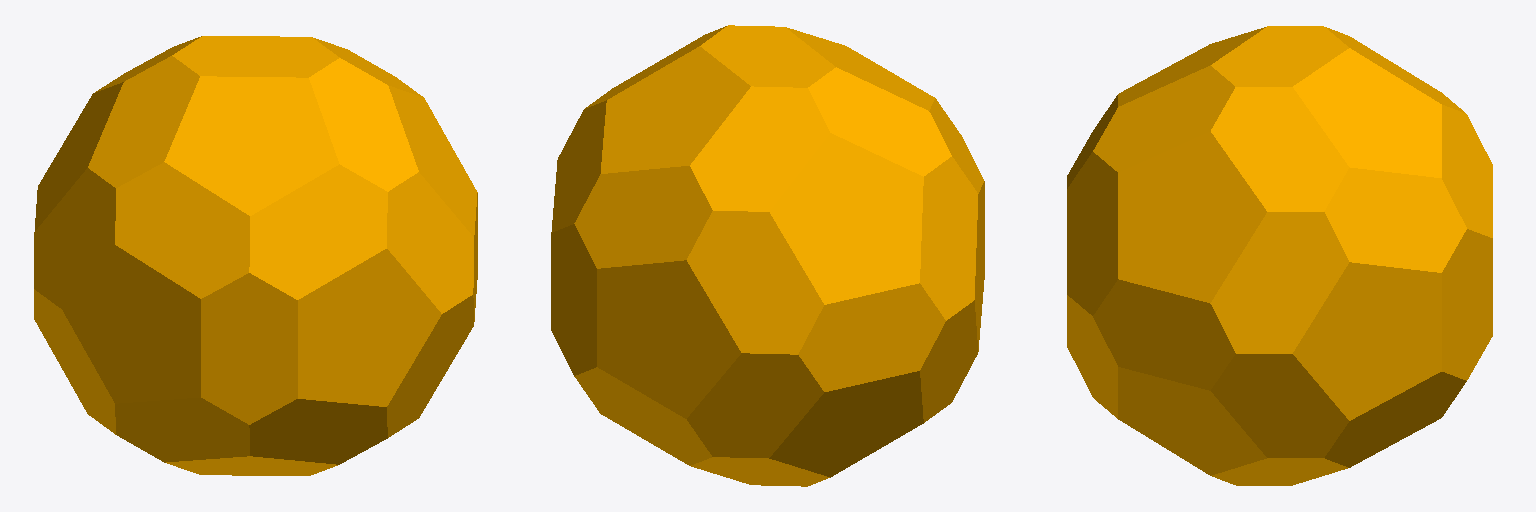
Rendered from testvc.obj.
The picture shows the model from 3 angles: view 1: azimuth 30°, elevation 25°; view 2: azimuth 150°, elevation 25°; view 3: azimuth 270°, elevation 25°; orthographic projection.
Visible parts, largest first — view 1: 0; view 2: 0; view 3: 0.
Boxes of the visible parts, x1=… form: 0: x1=34, y1=36, x2=477, y2=475; 0: x1=551, y1=25, x2=984, y2=486; 0: x1=1067, y1=26, x2=1492, y2=485.
Size of the model in its own units: 388 by 369 by 356.